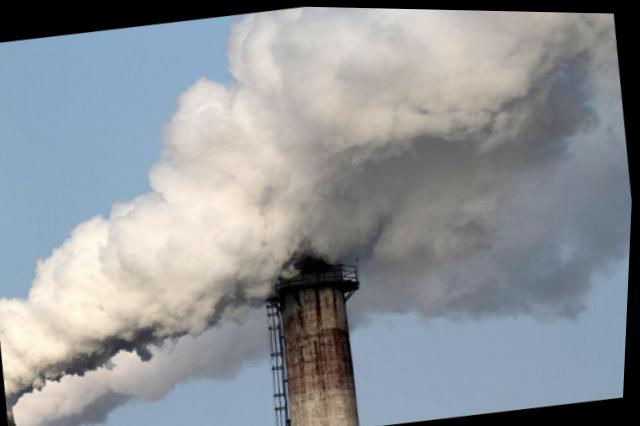smoke: (232, 4, 515, 178), (84, 182, 216, 357), (134, 68, 259, 188), (191, 173, 279, 323), (488, 9, 624, 96), (29, 239, 110, 380), (259, 159, 366, 258), (0, 294, 50, 392)
